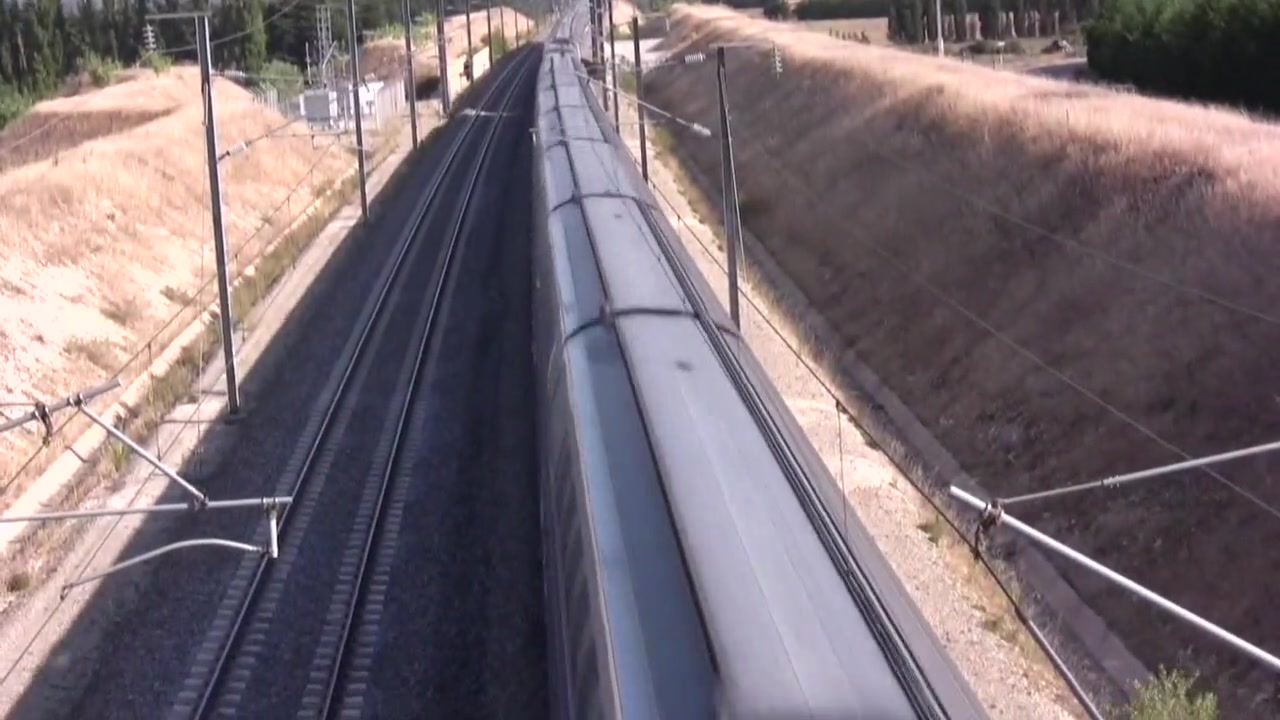train: (538, 31, 993, 720)
